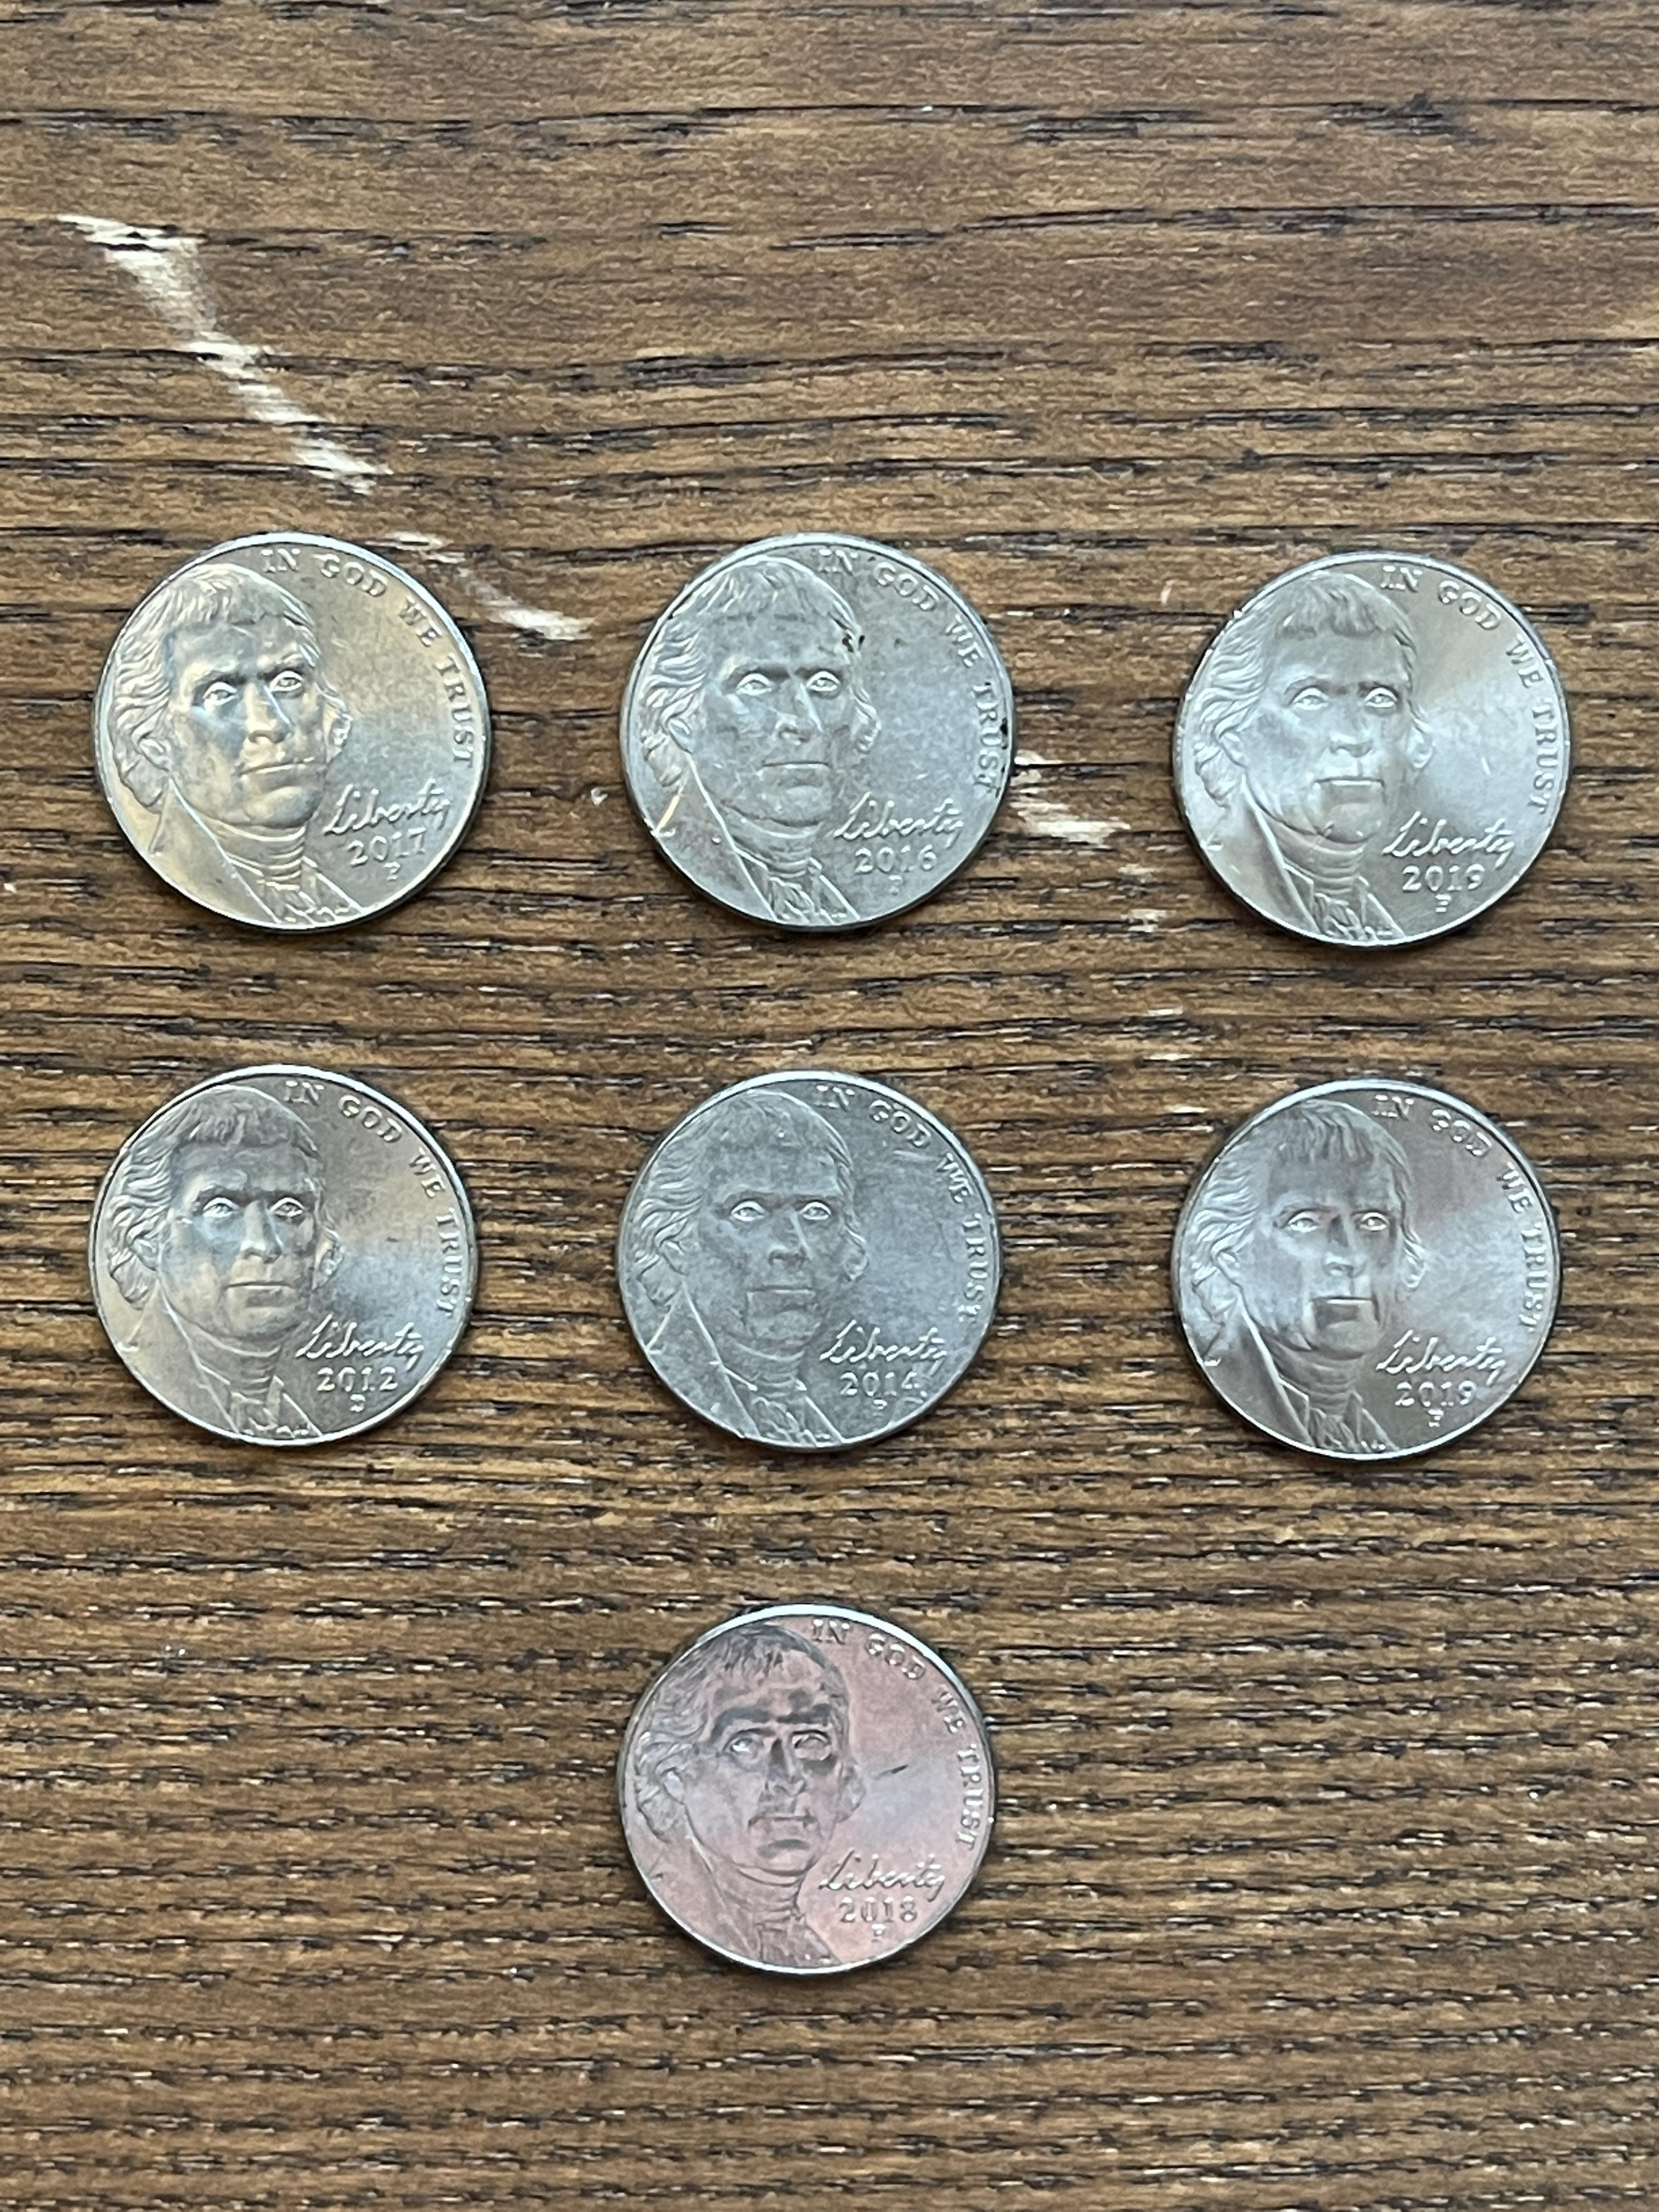Nickel: (87, 529, 498, 935), (1166, 549, 1579, 951), (617, 529, 1021, 939), (612, 1064, 1007, 1456), (87, 1061, 479, 1451), (1168, 1075, 1561, 1461), (615, 1599, 1002, 1975)
